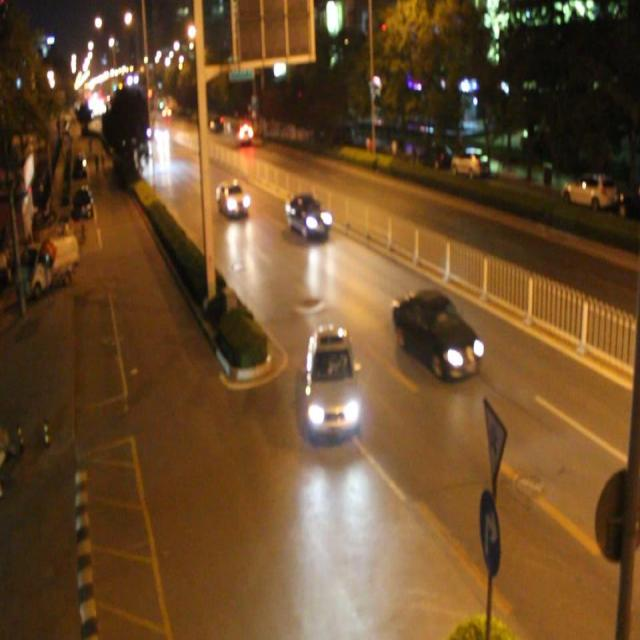car: (394, 287, 481, 383), (303, 321, 359, 442), (286, 191, 331, 239), (216, 178, 250, 218), (236, 119, 255, 143)
